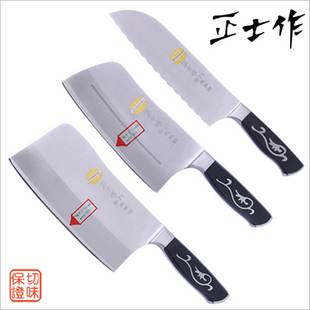knief: (9, 130, 242, 297)
